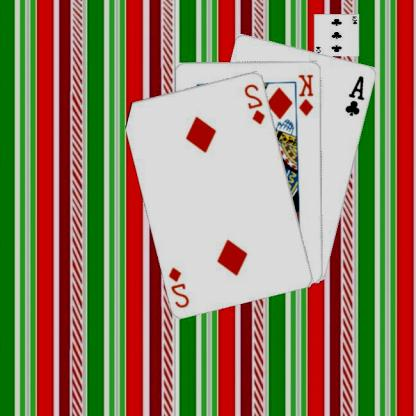2D: (243, 80, 268, 126), (168, 264, 192, 309)
AC: (344, 72, 368, 117)
KD: (298, 71, 316, 117)
